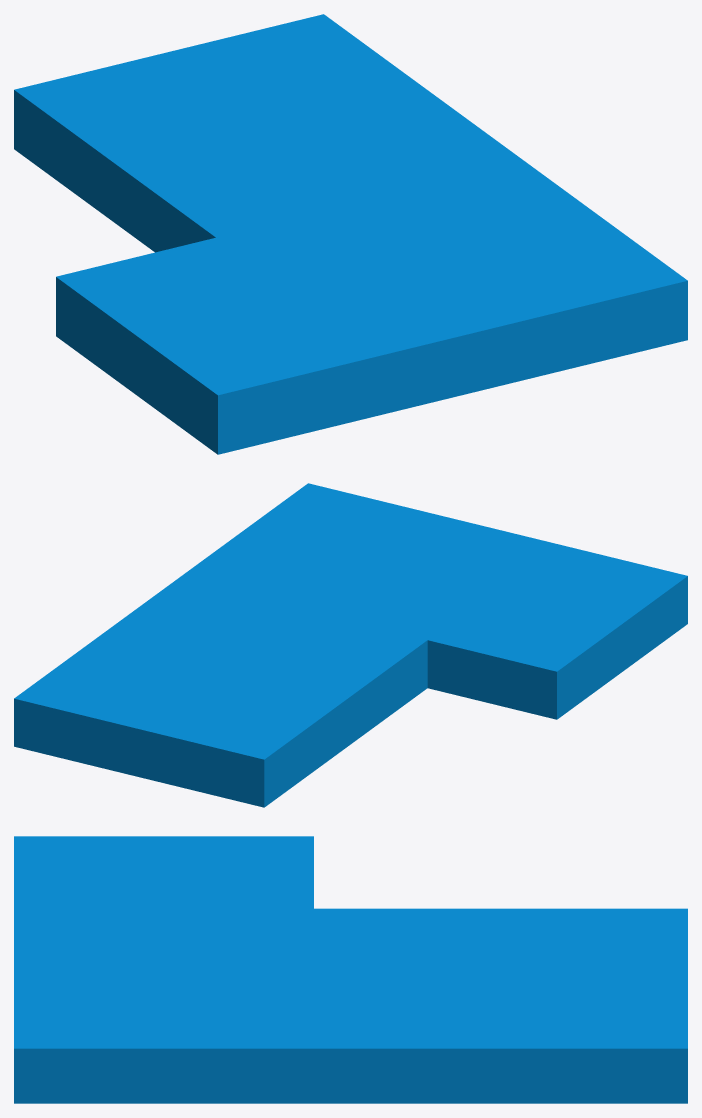
The model's file is Jigsaw_Color_06.fbx.
3 renders of one model, top to bottom at view 1: azimuth 30°, elevation 25°; view 2: azimuth 150°, elevation 25°; view 3: azimuth 270°, elevation 25°, orthographic. The views are drawn at different scales.
Visible parts, largest first — view 1: Jigsaw_Color_06; view 2: Jigsaw_Color_06; view 3: Jigsaw_Color_06.
Boxes of the visible parts, x1,y1,x2,y2 form: Jigsaw_Color_06: (14,14,687,454); Jigsaw_Color_06: (14,483,687,807); Jigsaw_Color_06: (14,836,687,1103).
Bounding box in the file's own units: 16.6 × 2.01 × 22.27.
